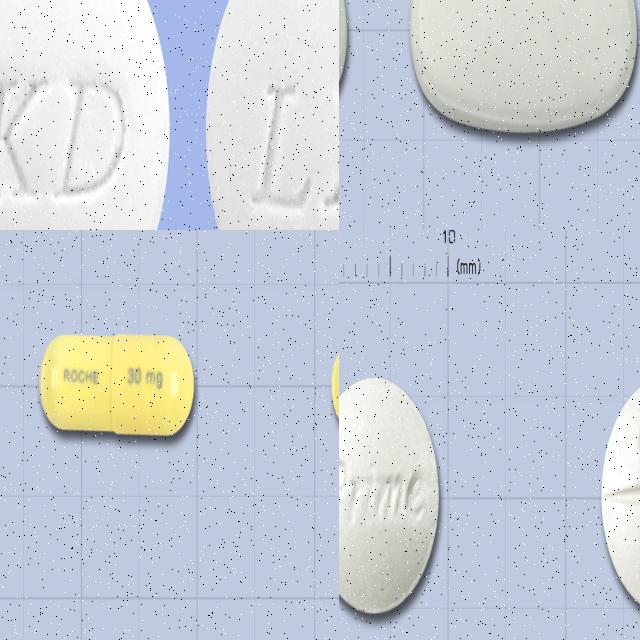Famvir: (410, 0, 638, 133)
Lefoxin: (0, 0, 170, 230), (206, 0, 339, 230)
Loxin: (339, 375, 440, 616), (600, 375, 640, 614)
Tenofobell Tab: (40, 333, 194, 438)
